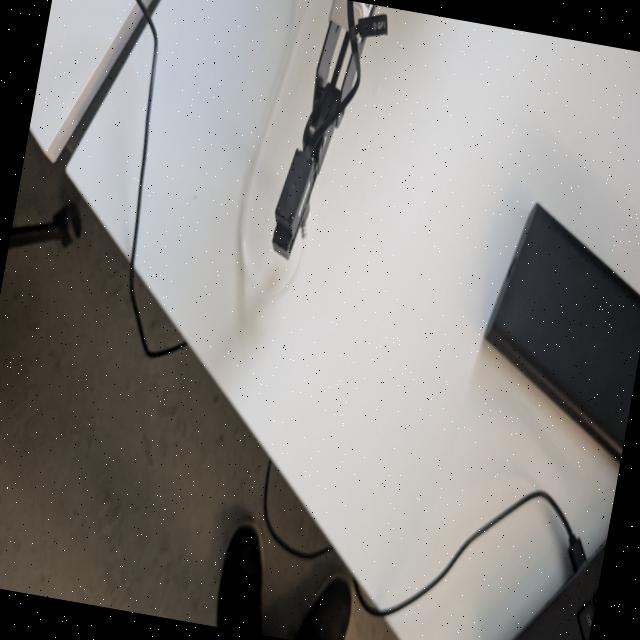Robot-end-effector-HF8z: (266, 140, 324, 266)
